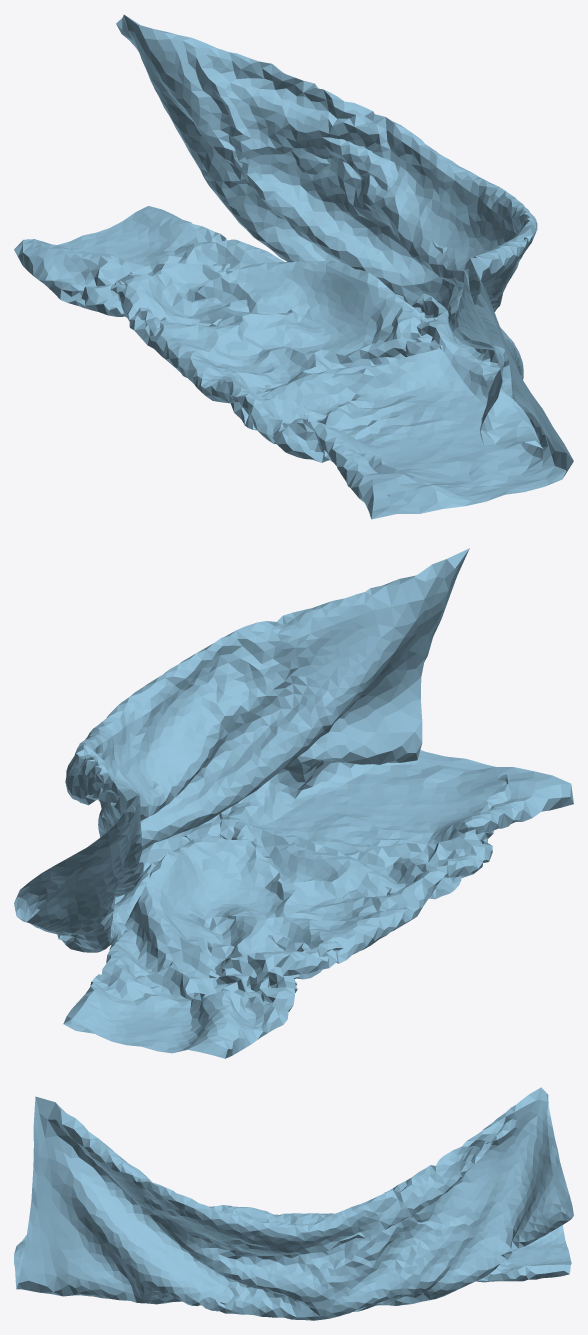
File: frame_15.glb
The picture shows the model from 3 angles, top to bottom: view 1: azimuth 30°, elevation 25°; view 2: azimuth 150°, elevation 25°; view 3: azimuth 270°, elevation 25°; orthographic projection. The views are drawn at different scales.
Parts seen in each view (by area): view 1: frame_15.obj; view 2: frame_15.obj; view 3: frame_15.obj.
Boxes of the visible parts, bbox=[...] form: frame_15.obj: bbox=[14, 14, 573, 519]; frame_15.obj: bbox=[14, 548, 573, 1058]; frame_15.obj: bbox=[14, 1087, 573, 1320].
Size of the model in its own units: 0.8205 by 0.6084 by 1.74.
